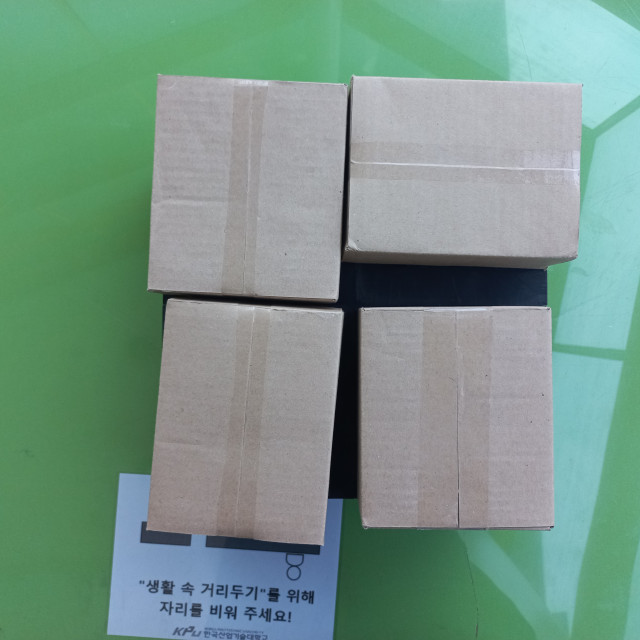box: (294, 302, 548, 452), (71, 298, 302, 453), (303, 142, 532, 294), (75, 121, 265, 304)
